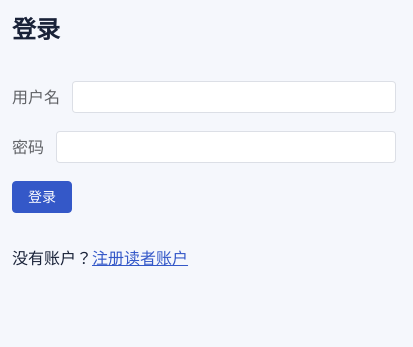
Test: LoginView › rejects wrong credentials without creating a session
Type "reader01" into the field with test id "login-username" at (234, 97), box [83,82,385,112]
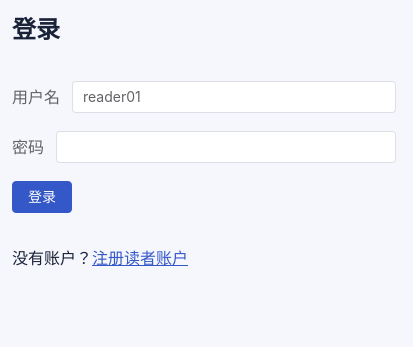
Type "wrong" into the password field with test id "login-password" at (226, 147), box [67,132,385,162]
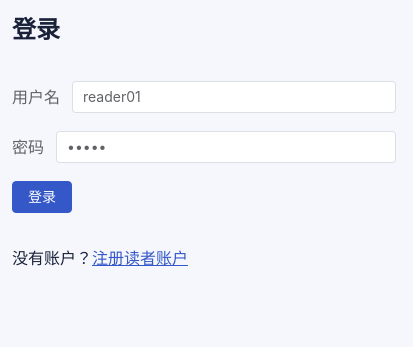
Submit the form with test id "login-form", box [12,81,396,213]
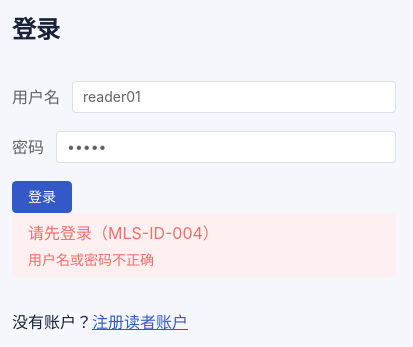
expect the element with test id "error-alert" is shown: met, box [12,213,396,277]
expect the element with test id "error-alert" shows "MLS-ID-004": met, box [28,223,219,243]
